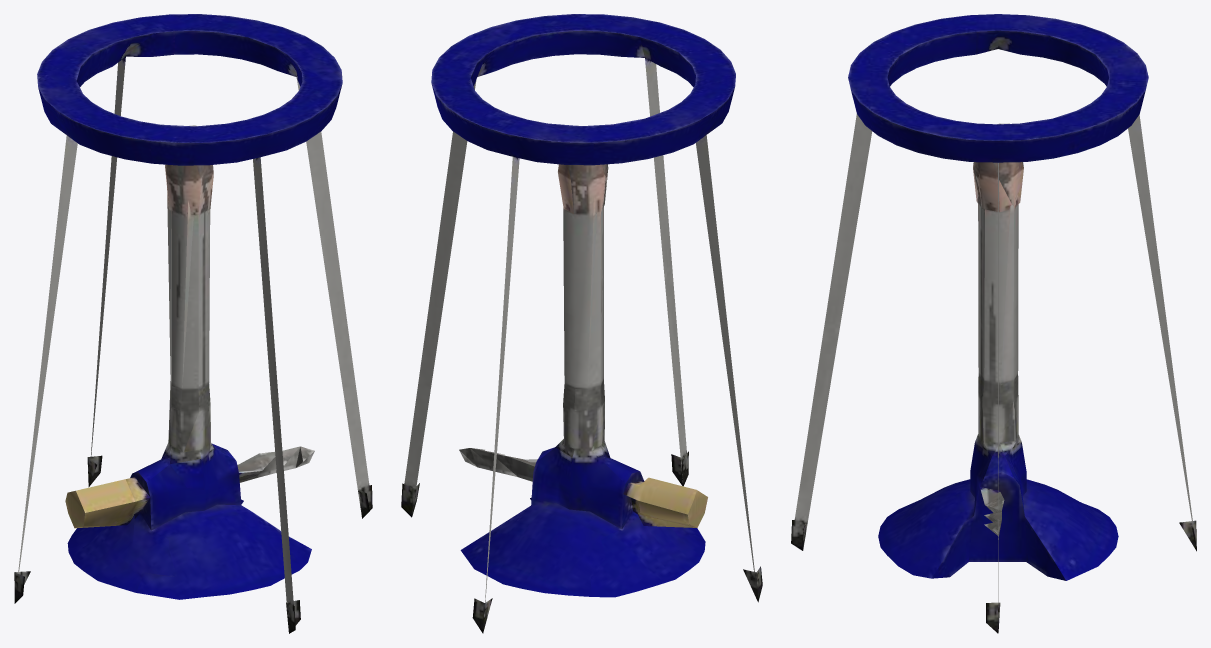
File: bunsen.glb
The picture shows the model from 3 angles, left to right: view 1: azimuth 30°, elevation 25°; view 2: azimuth 150°, elevation 25°; view 3: azimuth 270°, elevation 25°; orthographic projection.
Visible parts, largest first — view 1: mesh; view 2: mesh; view 3: mesh.
Boxes of the visible parts, <box> form: mesh: <box>14,14,372,633</box>; mesh: <box>401,14,762,633</box>; mesh: <box>791,14,1196,633</box>.
Bounding box in the file's own units: 0.1318 × 0.17 × 0.1318.
Materials: 1 (1 with a texture image).
